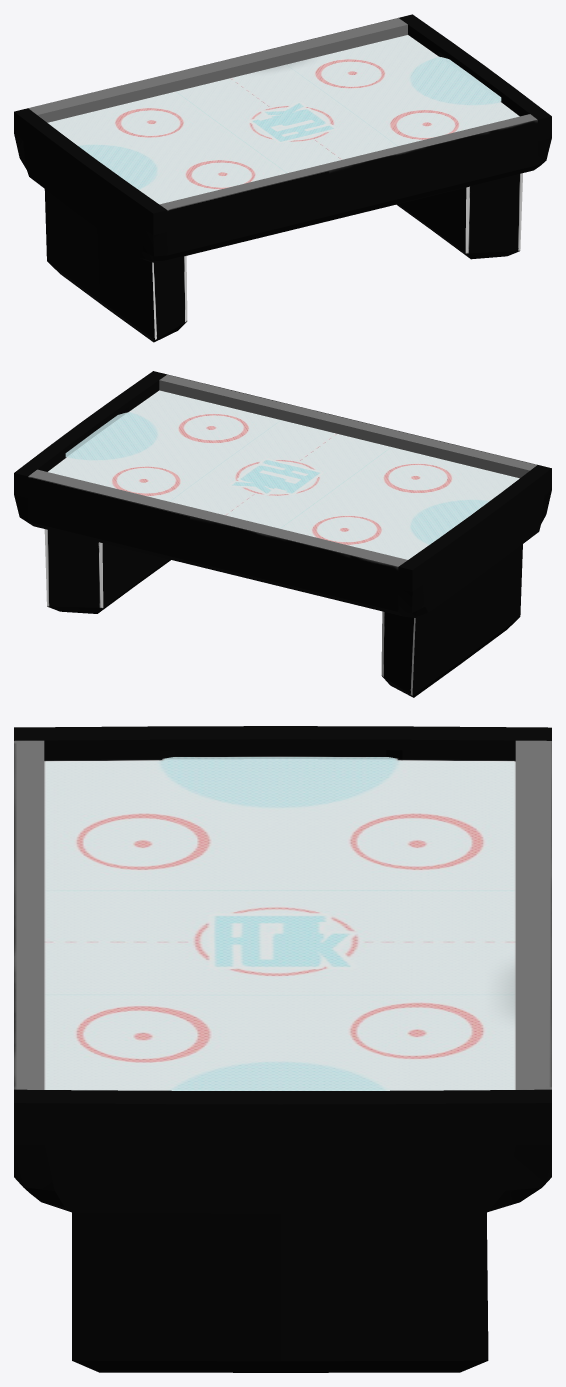
The model's file is escenario.fbx.
3 renders of one model, top to bottom at view 1: azimuth 30°, elevation 25°; view 2: azimuth 150°, elevation 25°; view 3: azimuth 270°, elevation 25°, orthographic. The views are drawn at different scales.
Parts seen in each view (by area): view 1: polySurface1; view 2: polySurface1; view 3: polySurface1.
Part boxes in pixels (bbox=[...]): polySurface1: bbox=[14, 14, 551, 342]; polySurface1: bbox=[14, 371, 551, 697]; polySurface1: bbox=[14, 726, 551, 1372].
Bounding box in the file's own units: 206 × 73.97 × 124.
